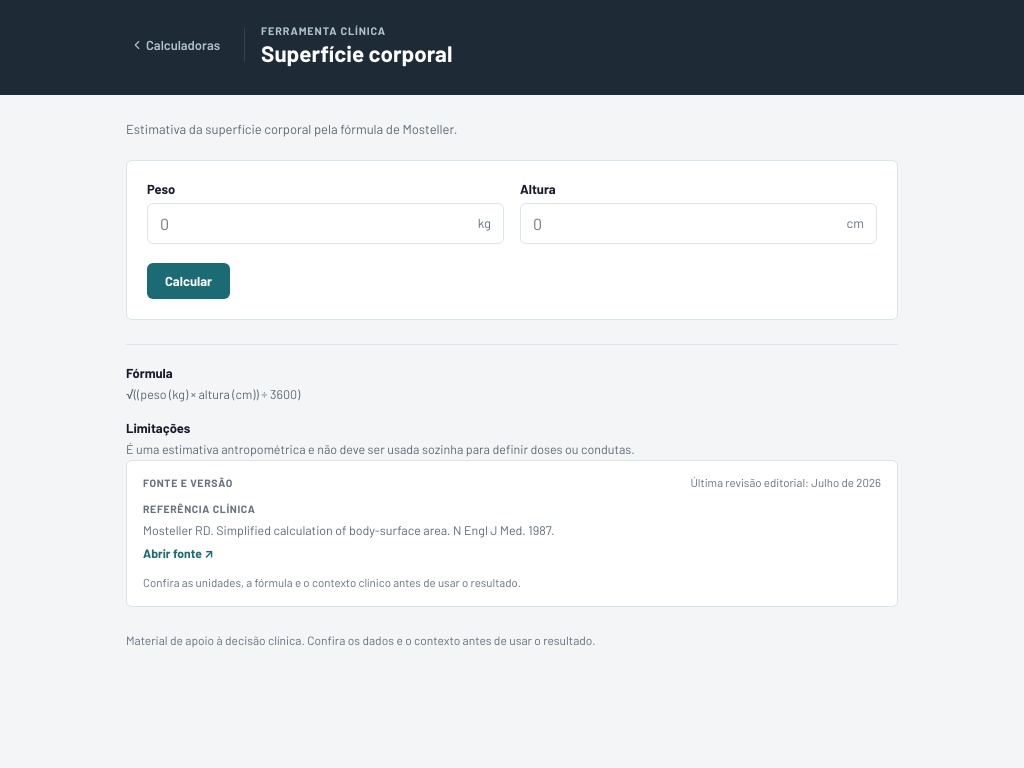
Test: CalculadoraDetalhe › aceita decimal com vírgula na entrada
Type "70,5" into the field labelled "Peso kg".
click(313, 224); type("70,5")  # box [148, 204, 478, 243]
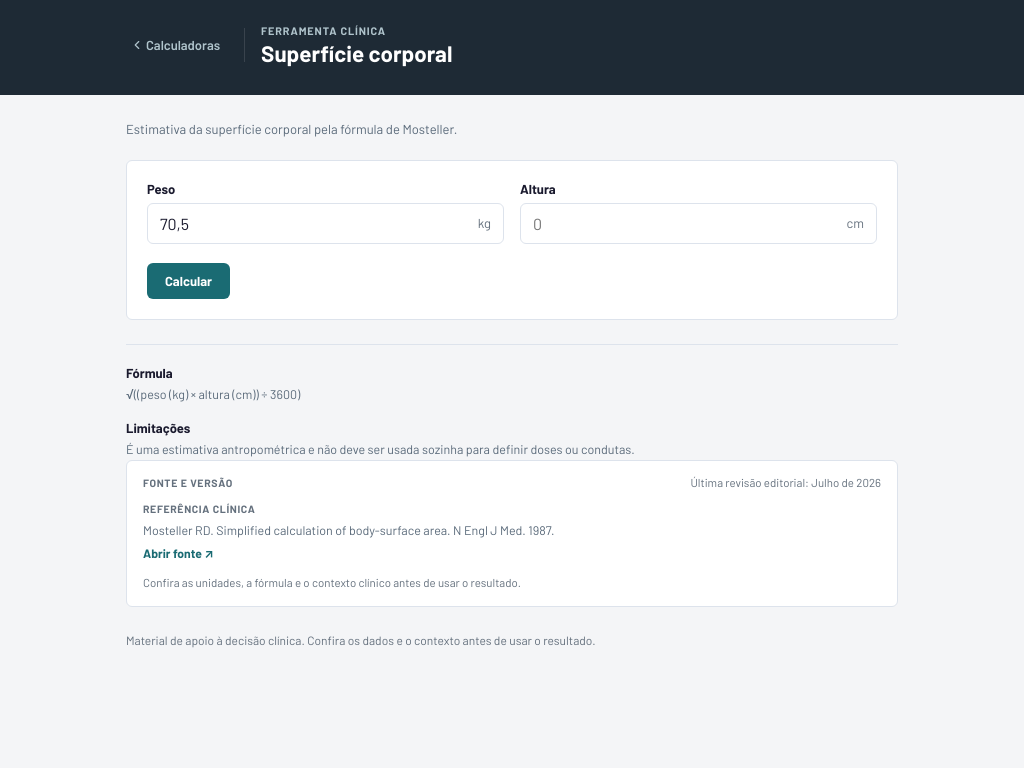
Type "175,5" into the field labelled "Altura cm".
click(684, 224); type("175,5")  # box [521, 204, 846, 243]
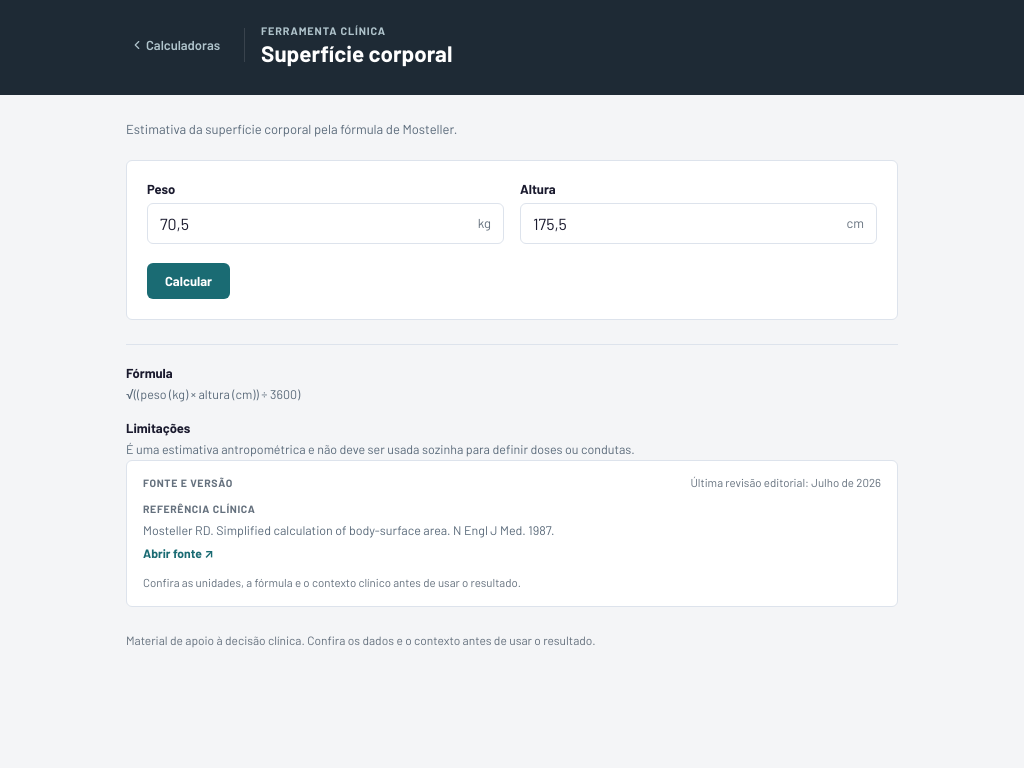
Click the button "Calcular".
click(188, 281)  # box [147, 263, 230, 299]
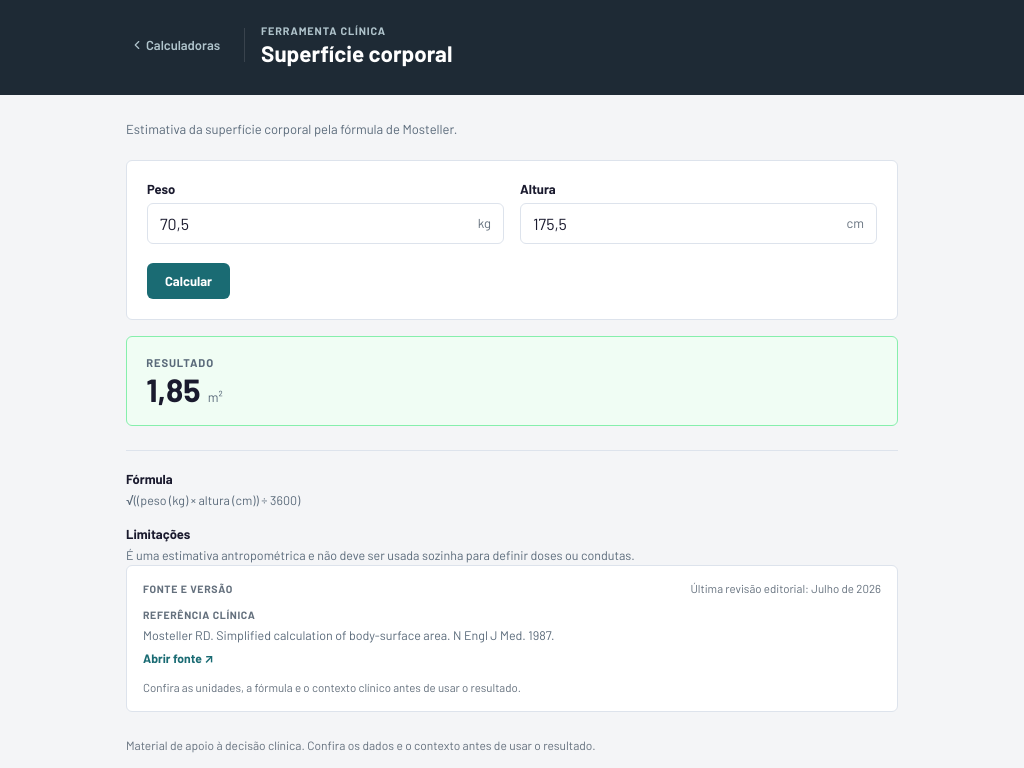
Now the message shows "m²", box [208, 389, 223, 405]
